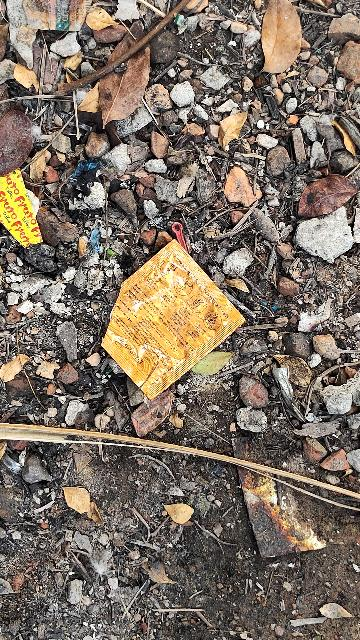packet: (73, 225, 249, 399)
